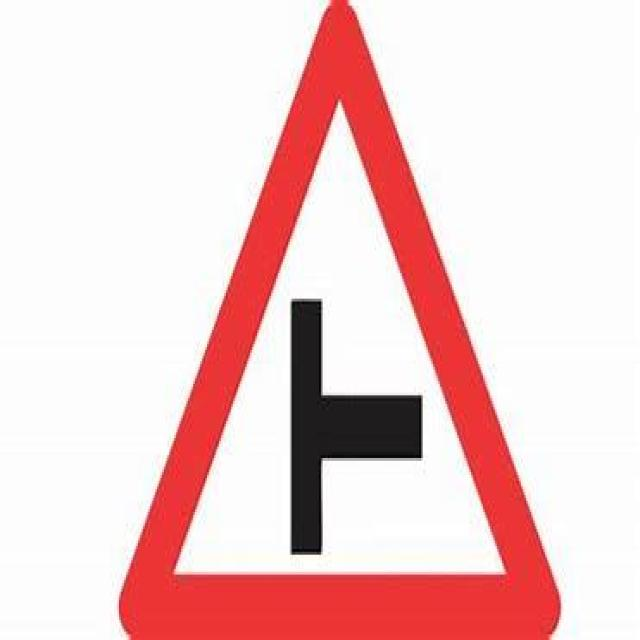SIDE_ROAD_RIGHT: (114, 0, 568, 640)
